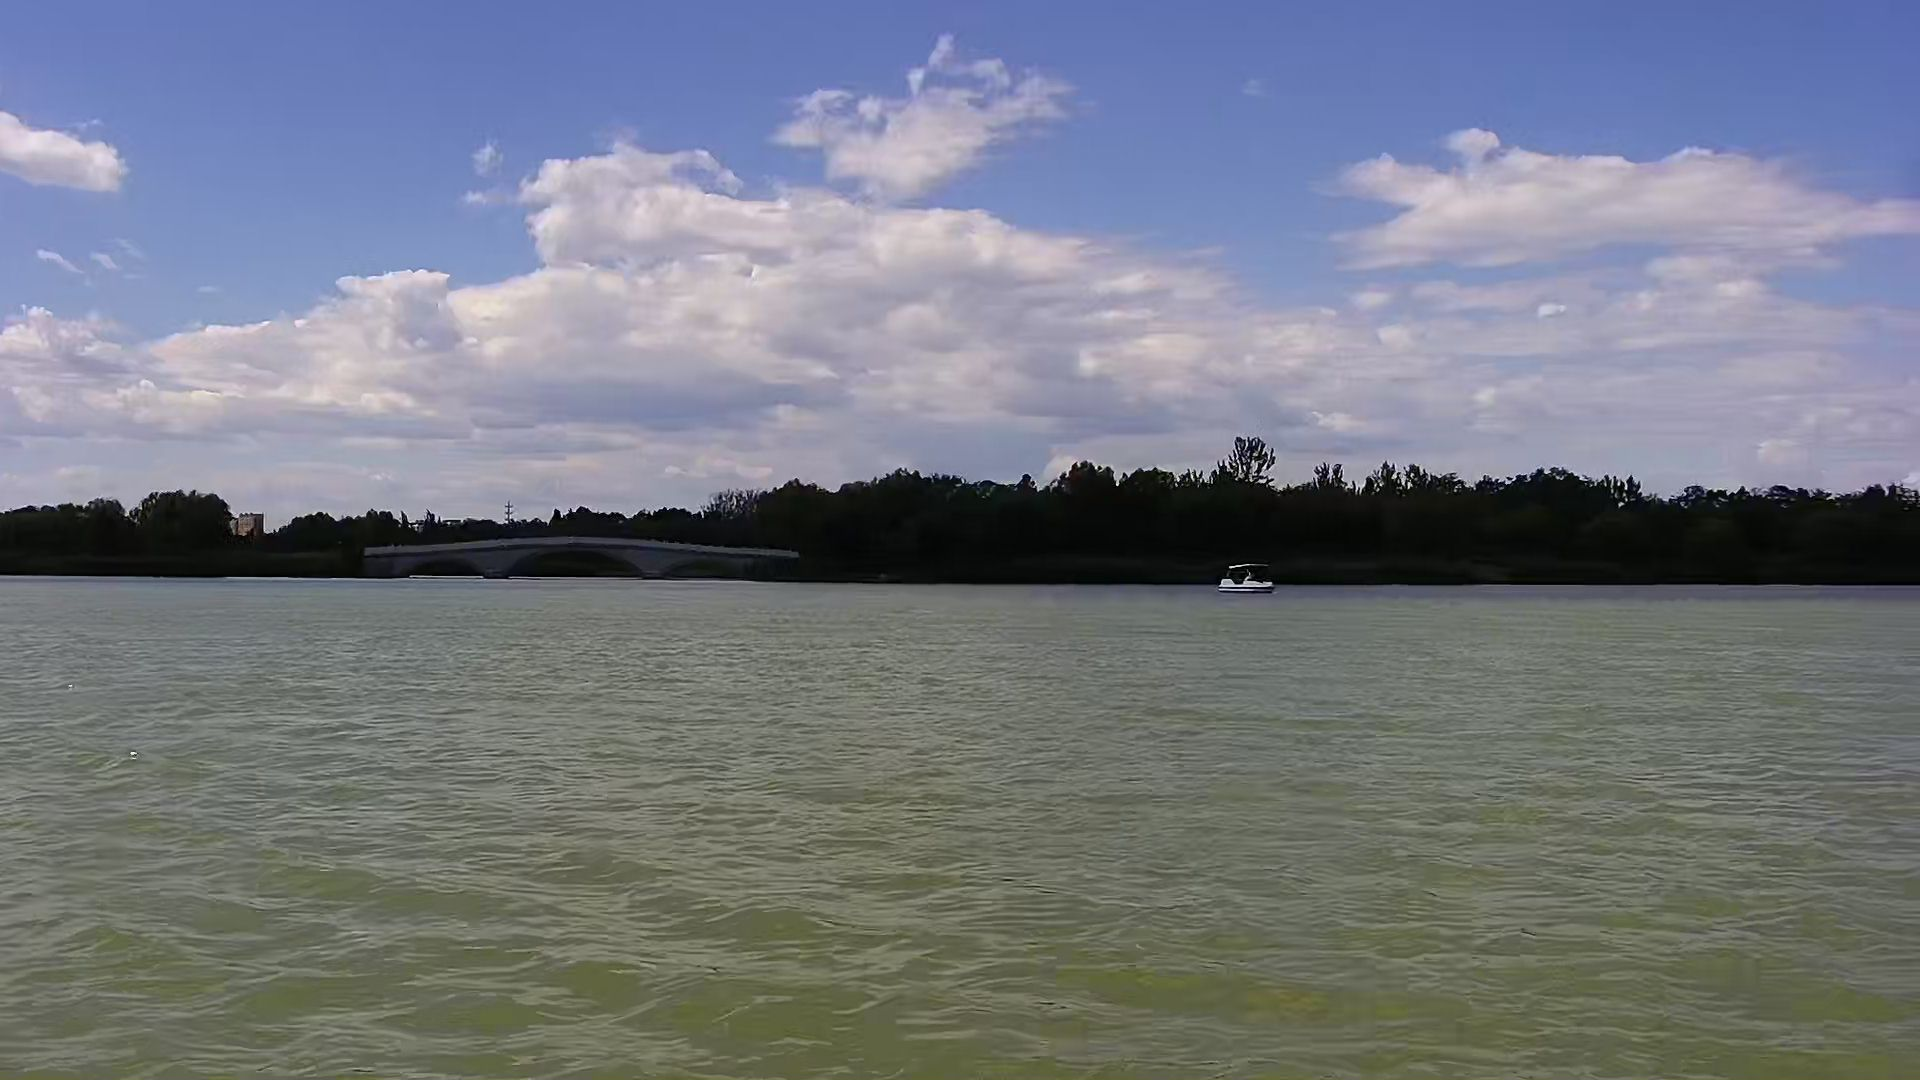boat: (1221, 556, 1271, 595)
bridge: (363, 534, 795, 585)
